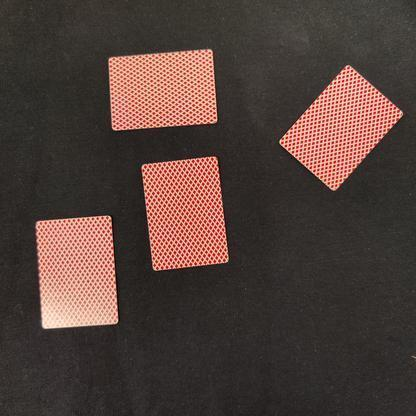card: (271, 54, 411, 201), (86, 39, 230, 137), (26, 206, 129, 336), (132, 147, 235, 277)
